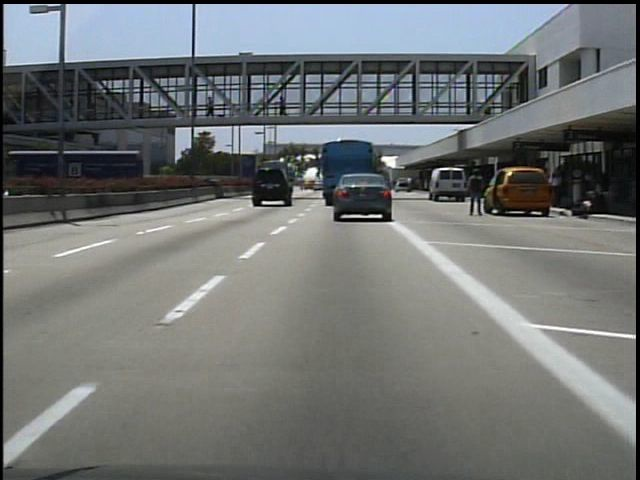person: (464, 163, 489, 221), (204, 93, 219, 120), (276, 94, 291, 121)
